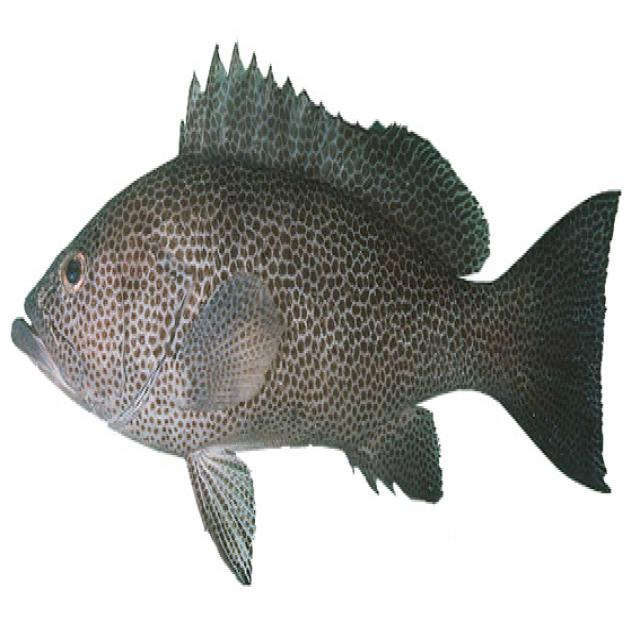ikan: (10, 38, 621, 585)
